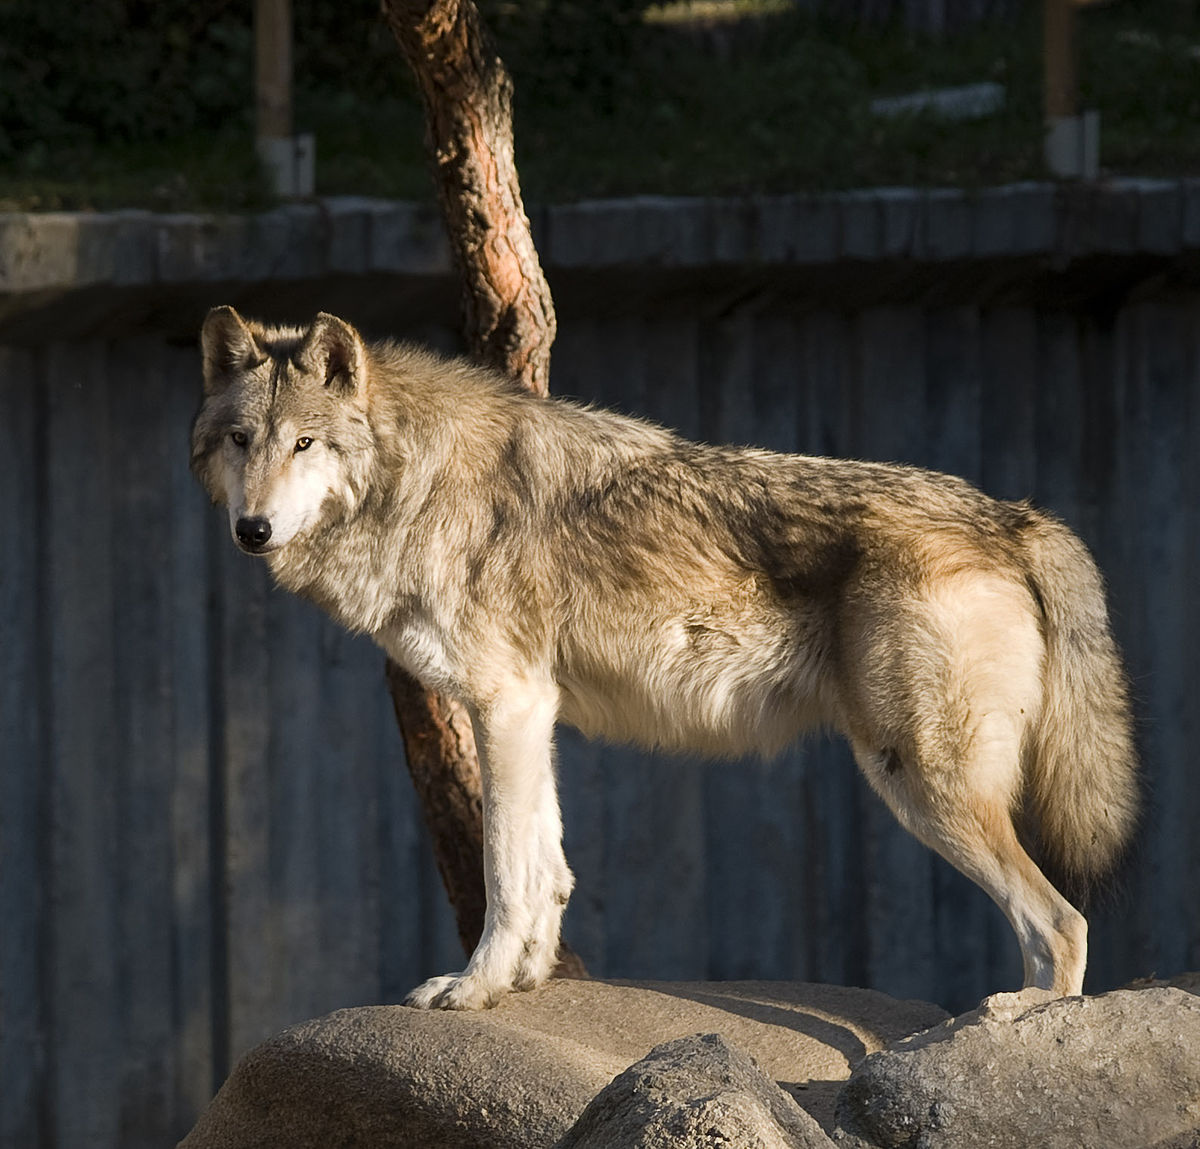Lobo: (127, 279, 1130, 1019)
